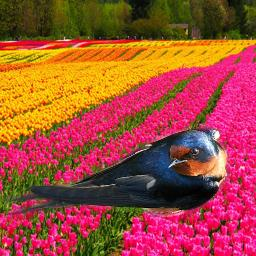Swallow: (3, 126, 230, 217)
